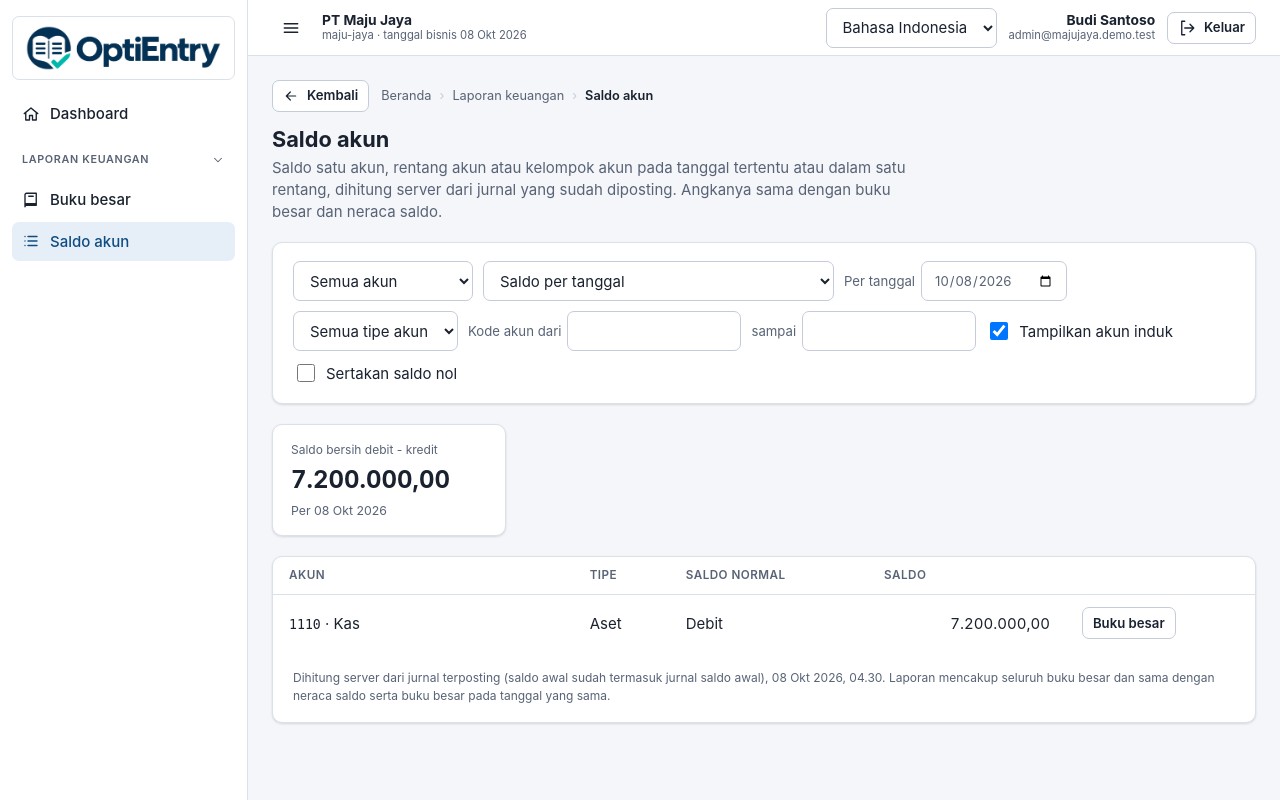
Scenario: account balance: a range › shows opening, movement and closing as the server returned them and links the range to the ledger
Expected: the table named "Saldo akun" is shown, [273,558,1255,651]
Select "Saldo awal, mutasi, dan akhir pada rentang" in the dropdown named "Jenis tanggal". click: (658, 281)
box: [483,261,834,301]
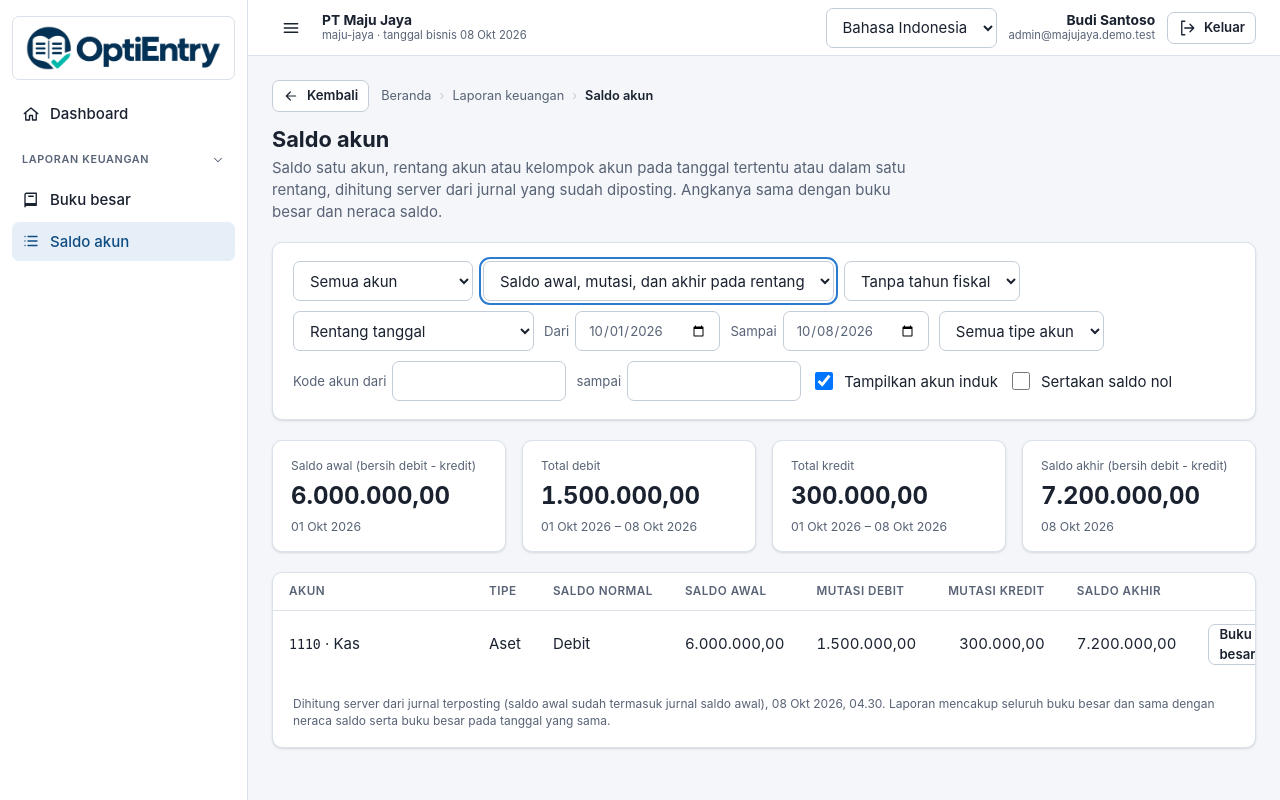
Expected: the column heading "Mutasi debit" is shown, [800,574,932,611]
Expected: the text "6.000.000,00" in the row of "1110" is shown, [685,634,784,653]
Expected: the text "1.500.000,00" in the row of "1110" is shown, [816,634,916,653]
